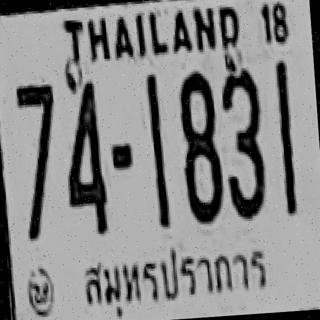N01: (145, 73, 166, 198), (275, 62, 294, 188)
N03: (218, 66, 266, 219)
N04: (58, 74, 108, 234)
N07: (14, 82, 59, 184), (14, 82, 58, 175)
N08: (177, 69, 224, 224)
P57: (76, 231, 280, 320)
